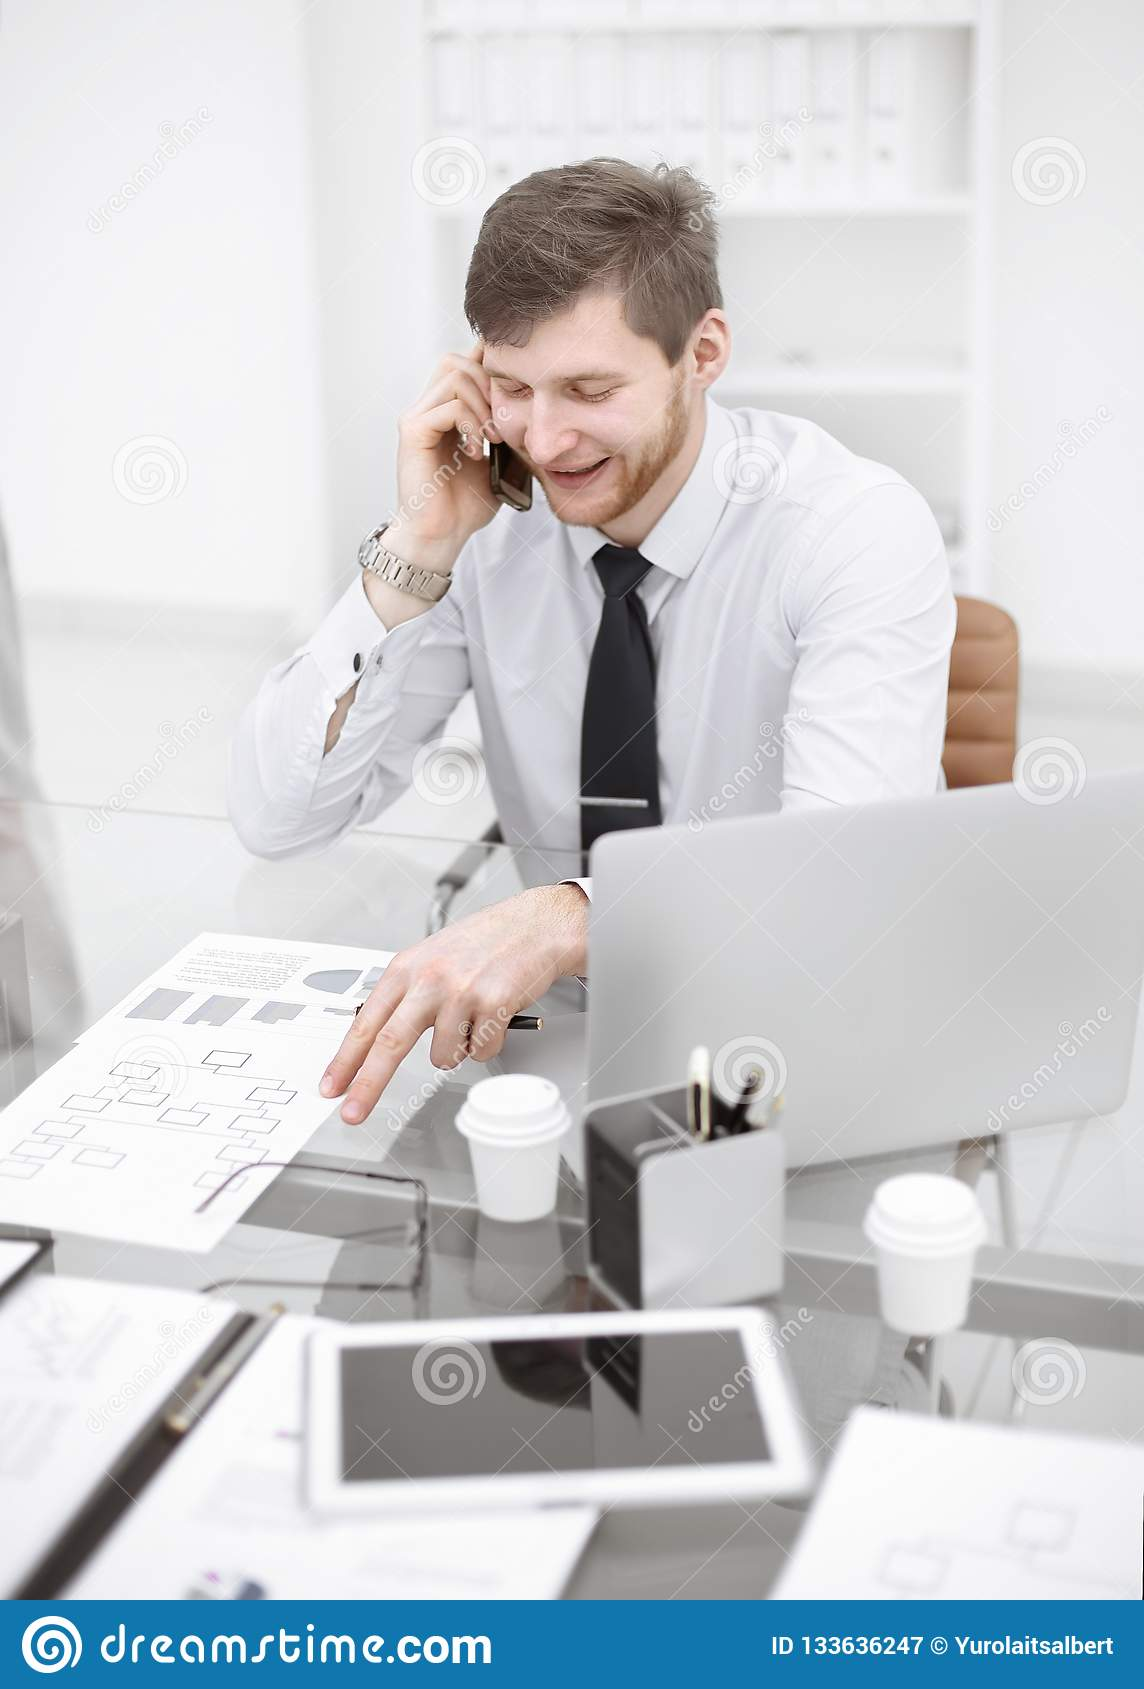phone: (466, 391, 532, 520)
talk: (389, 340, 663, 554)
